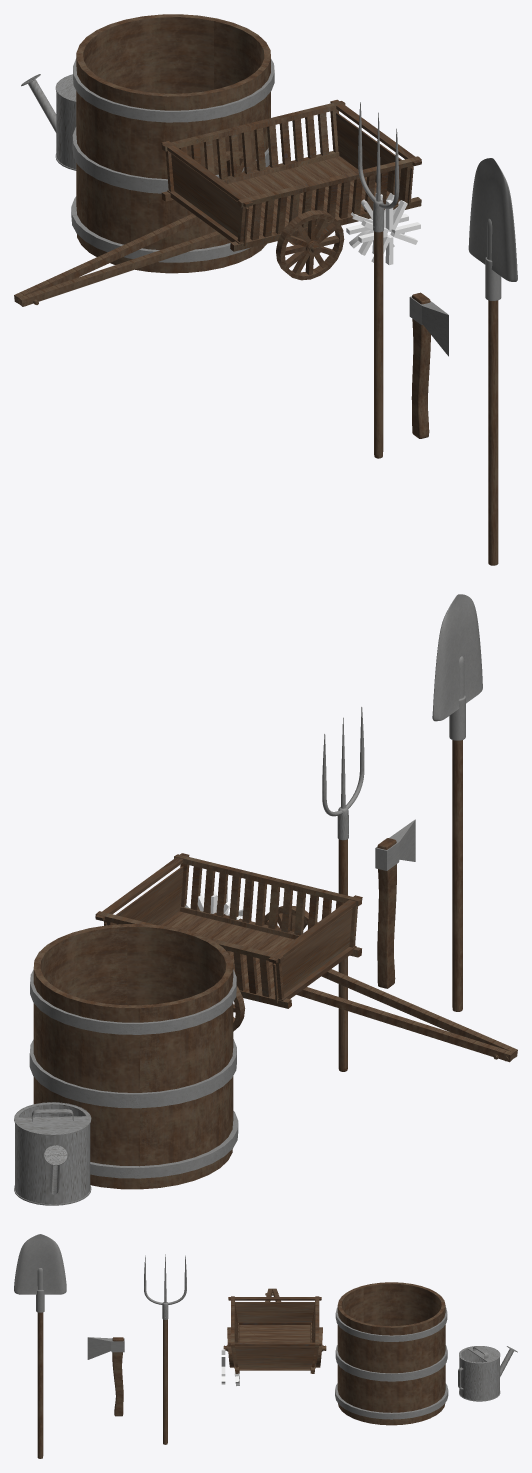
Rendered from vv_herramientas_granja.glb.
The picture shows the model from 3 angles, top to bottom: view 1: azimuth 30°, elevation 25°; view 2: azimuth 150°, elevation 25°; view 3: azimuth 270°, elevation 25°; orthographic projection. The views are drawn at different scales.
Visible parts, largest first — view 1: Cylinder.001_5, Cylinder_3, Cube.004_2, Cube_1, Cube.001_0, Plane.001_4, Cube.007_12, Cube.003_10; view 2: Cylinder.001_5, Cylinder_3, Cube.004_2, Plane.001_4, Cube.001_0, Cube_1; view 3: Cylinder.001_5, Cylinder_3, Cube.004_2, Plane.001_4, Cube.001_0, Cube_1.
Boxes of the visible parts, x1,y1,x2,y2 form: Cylinder.001_5: [71, 14, 274, 273]; Cylinder_3: [14, 99, 421, 306]; Cube.004_2: [468, 158, 517, 565]; Cube_1: [358, 102, 399, 458]; Cube.001_0: [409, 292, 448, 438]; Plane.001_4: [21, 74, 76, 170]; Cube.007_12: [346, 193, 408, 255]; Cube.003_10: [358, 200, 420, 265]; Cylinder.001_5: [29, 924, 238, 1189]; Cylinder_3: [95, 853, 517, 1062]; Cube.004_2: [432, 594, 482, 1011]; Plane.001_4: [14, 1102, 91, 1205]; Cube.001_0: [375, 819, 415, 988]; Cube_1: [322, 707, 364, 1071]; Cylinder.001_5: [335, 1282, 448, 1425]; Cylinder_3: [223, 1288, 326, 1373]; Cube.004_2: [14, 1234, 66, 1458]; Plane.001_4: [458, 1346, 517, 1401]; Cube.001_0: [87, 1337, 124, 1416]; Cube_1: [144, 1254, 186, 1444].
Size of the model in its own units: 11.58 by 12.12 by 24.73.
Materials: 3 (2 with a texture image).
